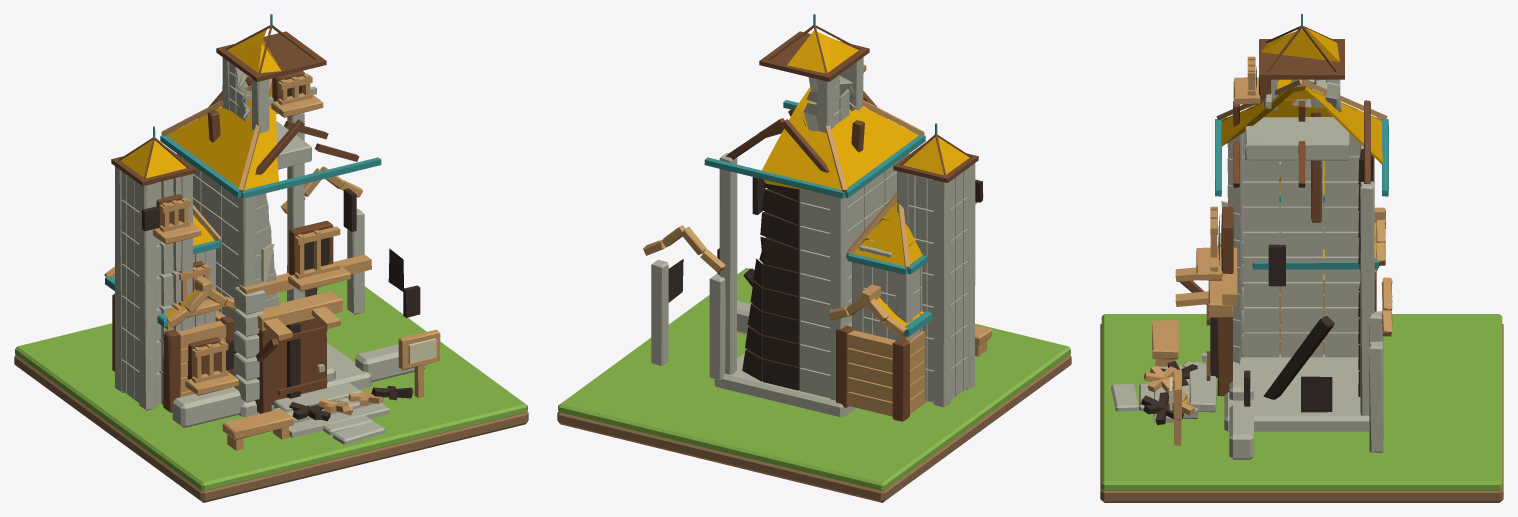
Rendered from town_hall_l07_damaged_LOD1.glb.
3 renders of one model, left to right at view 1: azimuth 30°, elevation 25°; view 2: azimuth 150°, elevation 25°; view 3: azimuth 270°, elevation 25°, orthographic. The views are drawn at different scales.
Visible parts, largest first — view 1: town_hall_l07_damaged_foundation.001, town_hall_l07_damaged_grass_tile.001, town_hall_l07_damaged_earth_tile.001, town_hall_l07_damaged_path_stone.005; view 2: town_hall_l07_damaged_foundation.001, town_hall_l07_damaged_grass_tile.001, town_hall_l07_damaged_earth_tile.001; view 3: town_hall_l07_damaged_foundation.001, town_hall_l07_damaged_grass_tile.001, town_hall_l07_damaged_earth_tile.001, town_hall_l07_damaged_path_stone.005.
Boxes of the visible parts, bbox=[...] form: town_hall_l07_damaged_foundation.001: bbox=[104, 14, 440, 450]; town_hall_l07_damaged_grass_tile.001: bbox=[15, 280, 527, 491]; town_hall_l07_damaged_earth_tile.001: bbox=[14, 355, 528, 502]; town_hall_l07_damaged_path_stone.005: bbox=[333, 421, 384, 444]; town_hall_l07_damaged_foundation.001: bbox=[643, 14, 991, 421]; town_hall_l07_damaged_grass_tile.001: bbox=[558, 268, 1070, 491]; town_hall_l07_damaged_earth_tile.001: bbox=[557, 355, 1071, 502]; town_hall_l07_damaged_foundation.001: bbox=[1141, 14, 1392, 459]; town_hall_l07_damaged_grass_tile.001: bbox=[1101, 314, 1502, 490]; town_hall_l07_damaged_earth_tile.001: bbox=[1100, 324, 1503, 502]; town_hall_l07_damaged_path_stone.005: bbox=[1111, 384, 1138, 411].
Bounding box in the file's own units: 3.6 × 3.99 × 3.6.
